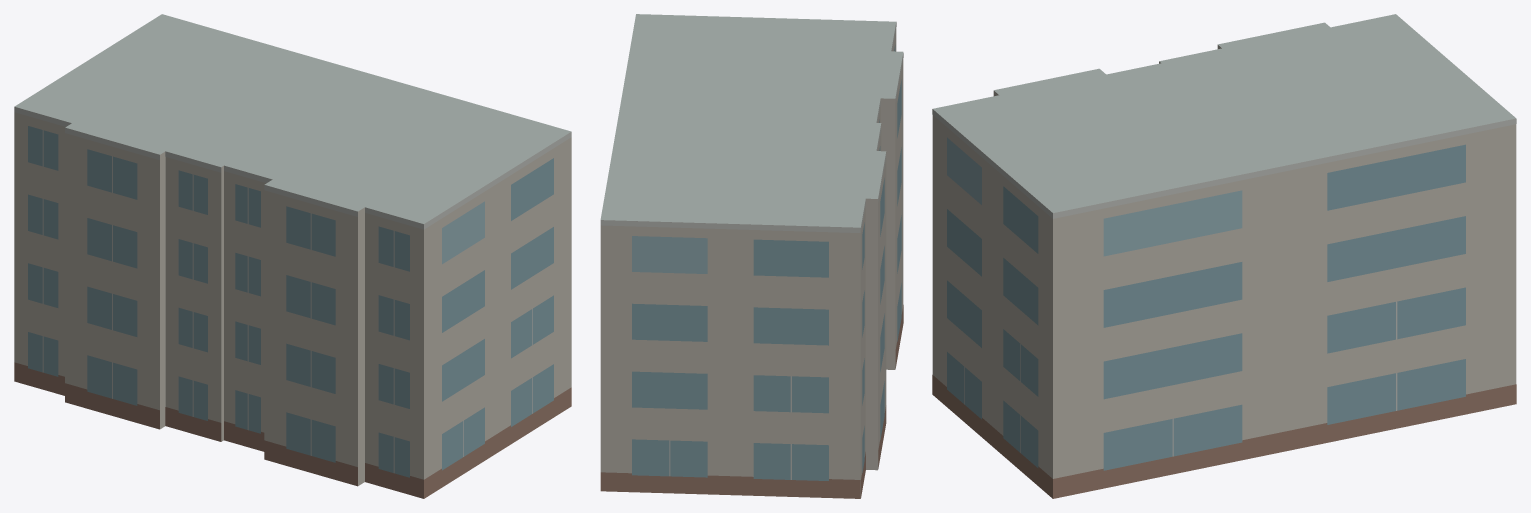
File: survey-upis-32745173.glb
3 renders of one model, left to right at view 1: azimuth 30°, elevation 25°; view 2: azimuth 150°, elevation 25°; view 3: azimuth 270°, elevation 25°, orthographic. The views are drawn at different scales.
Visible parts, largest first — view 1: survey-upis-32745173.tmp; view 2: survey-upis-32745173.tmp; view 3: survey-upis-32745173.tmp.
Boxes of the visible parts, box(x1,y1,x2,y2) form: survey-upis-32745173.tmp: box(14, 14, 571, 498); survey-upis-32745173.tmp: box(600, 14, 903, 498); survey-upis-32745173.tmp: box(932, 14, 1516, 498).
Bounding box in the file's own units: 18.25 × 12.2 × 22.61.
